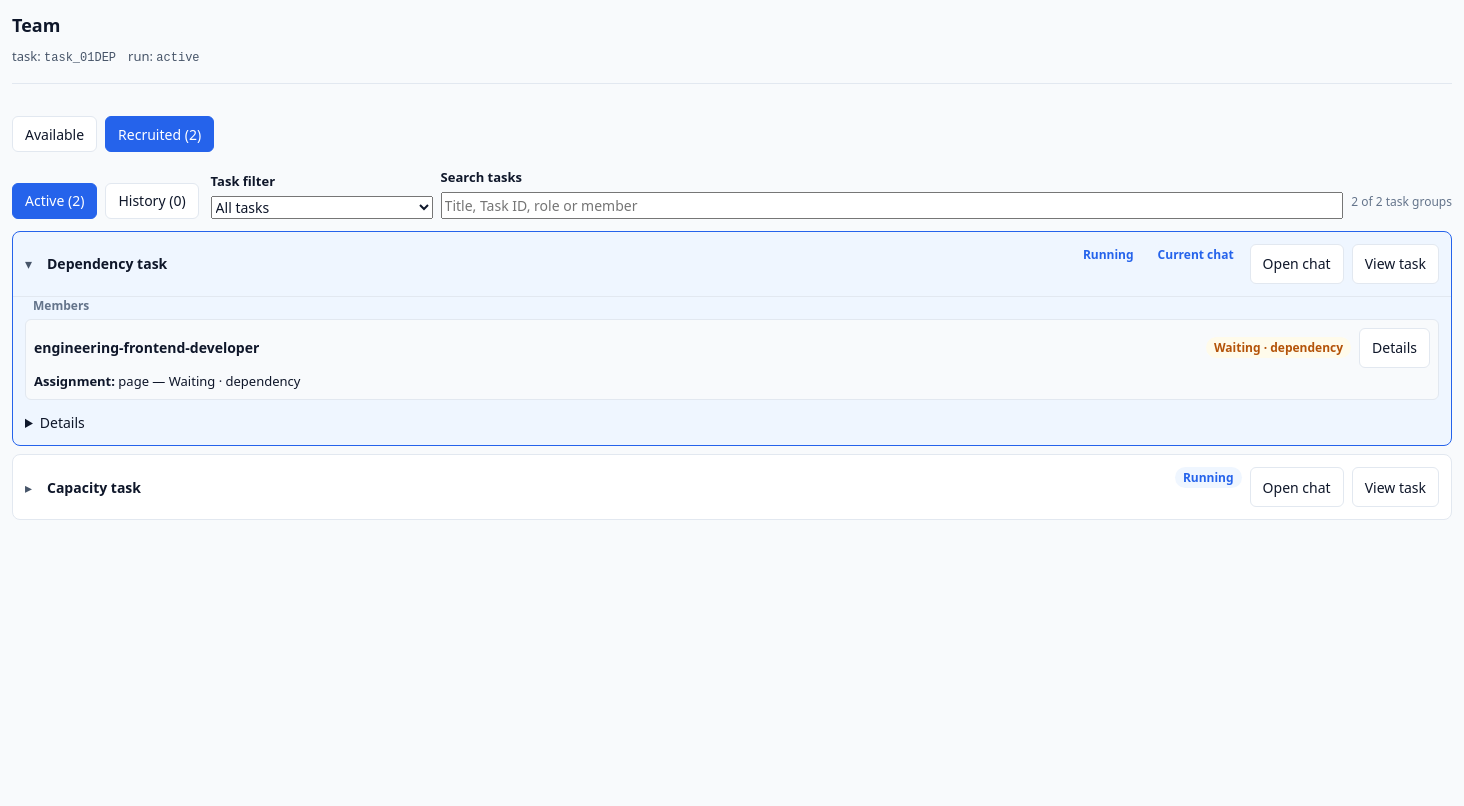
Test: LG-125 grouped team release semantics › shows dependency and capacity waits instead of treating member ready as idle
The width and height of the screenshot is (1464, 806).
expect the text "Dependency task" is shown: met, box [47, 253, 167, 274]
expect the text "Waiting · dependency" is shown: met, box [1206, 337, 1351, 358]
What coordinates should you click on to do the following:
click the button with aria-label "Show details for engineering-frontend-developer"
I would click on:
 (1394, 348)
Its box is [1359, 328, 1430, 368].
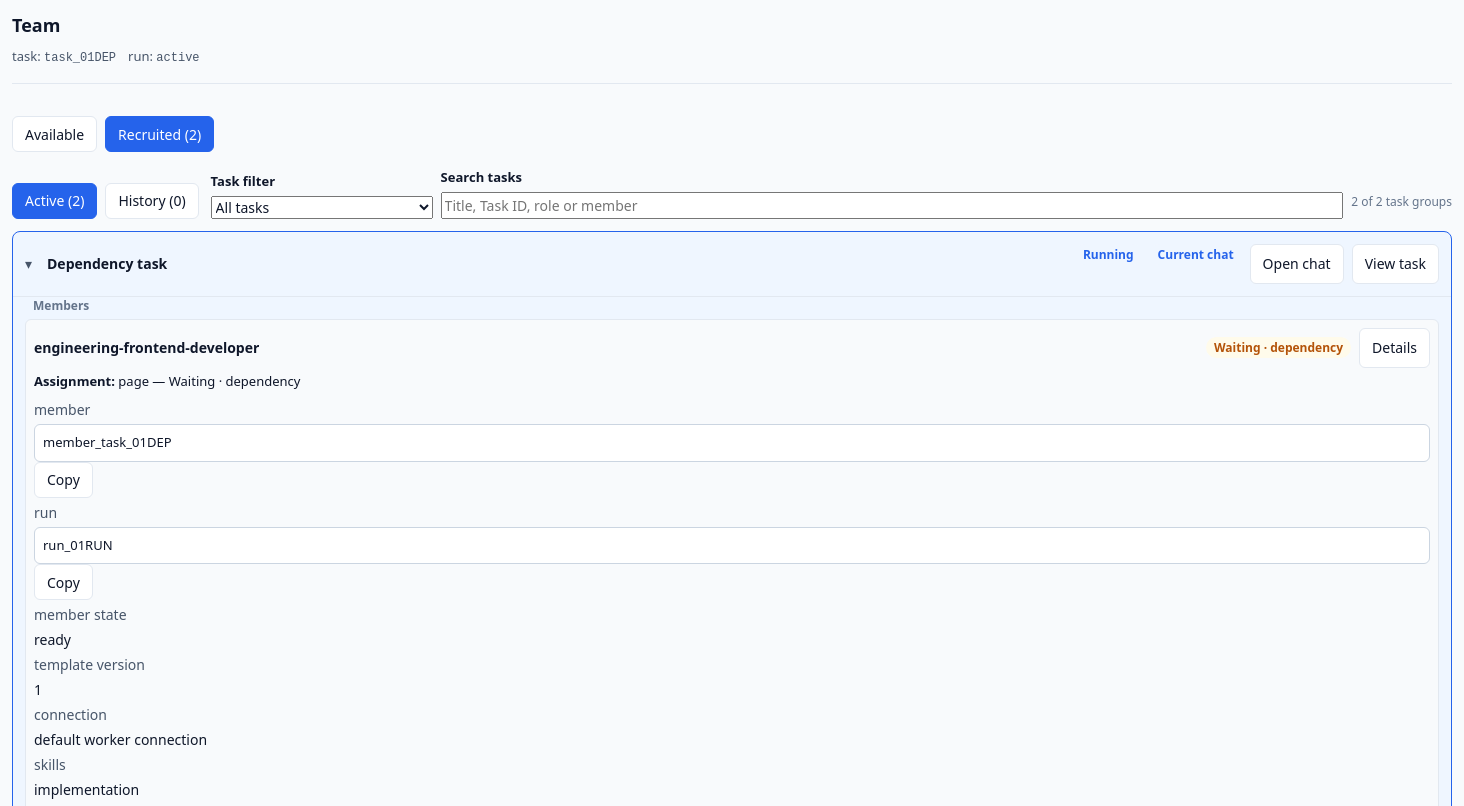
What coordinates should you click on to do the following:
click the button with aria-label "Hide details for engineering-frontend-developer"
I would click on:
 (1394, 348)
Its box is [1359, 328, 1430, 368].
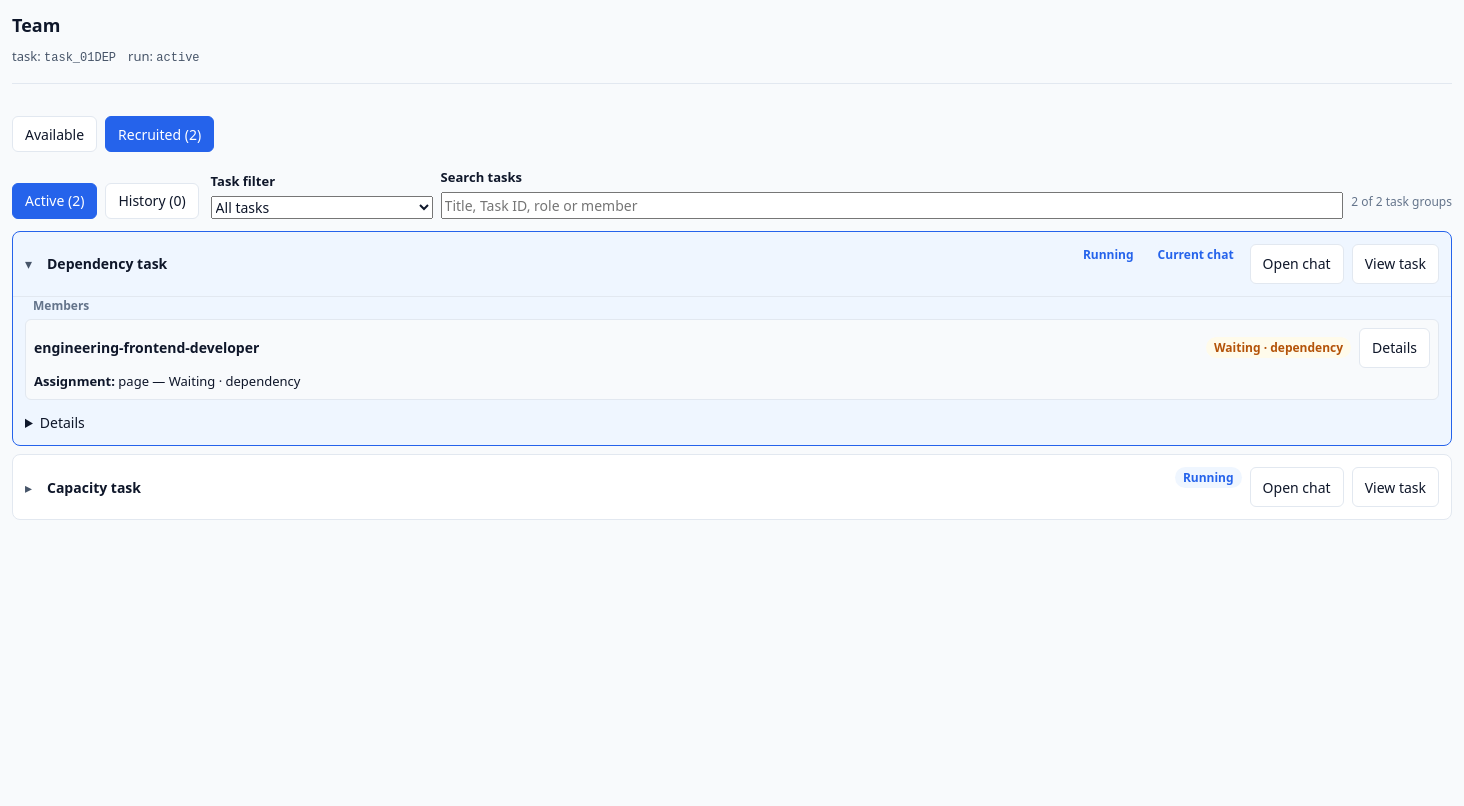
What coordinates should you click on to do the following:
click the button "▸ Capacity task"
I would click on:
 (94, 487)
Its box is [25, 467, 1167, 507].
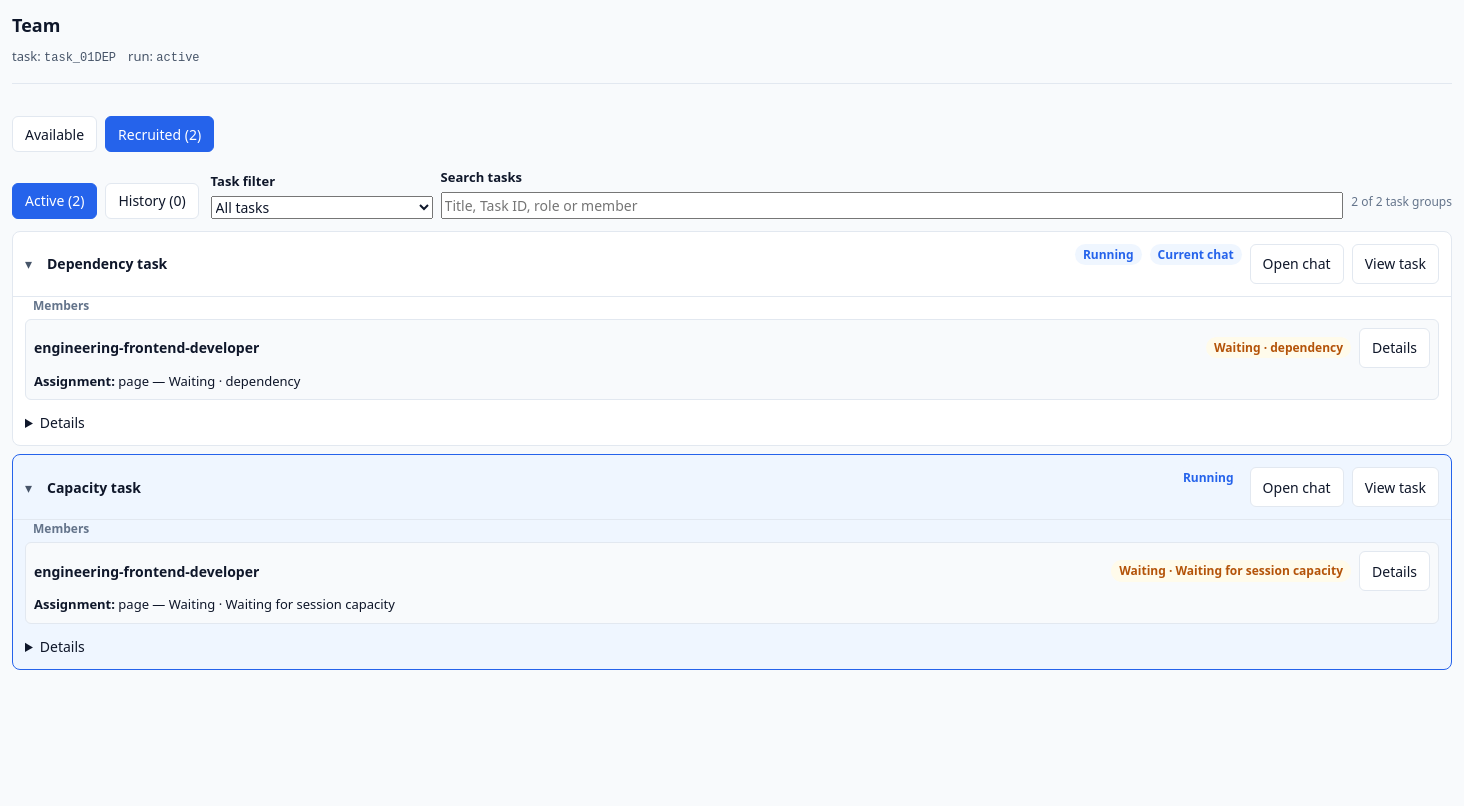
expect the text "Waiting · Waiting for session capacity" is shown: met, box [1111, 560, 1351, 582]
